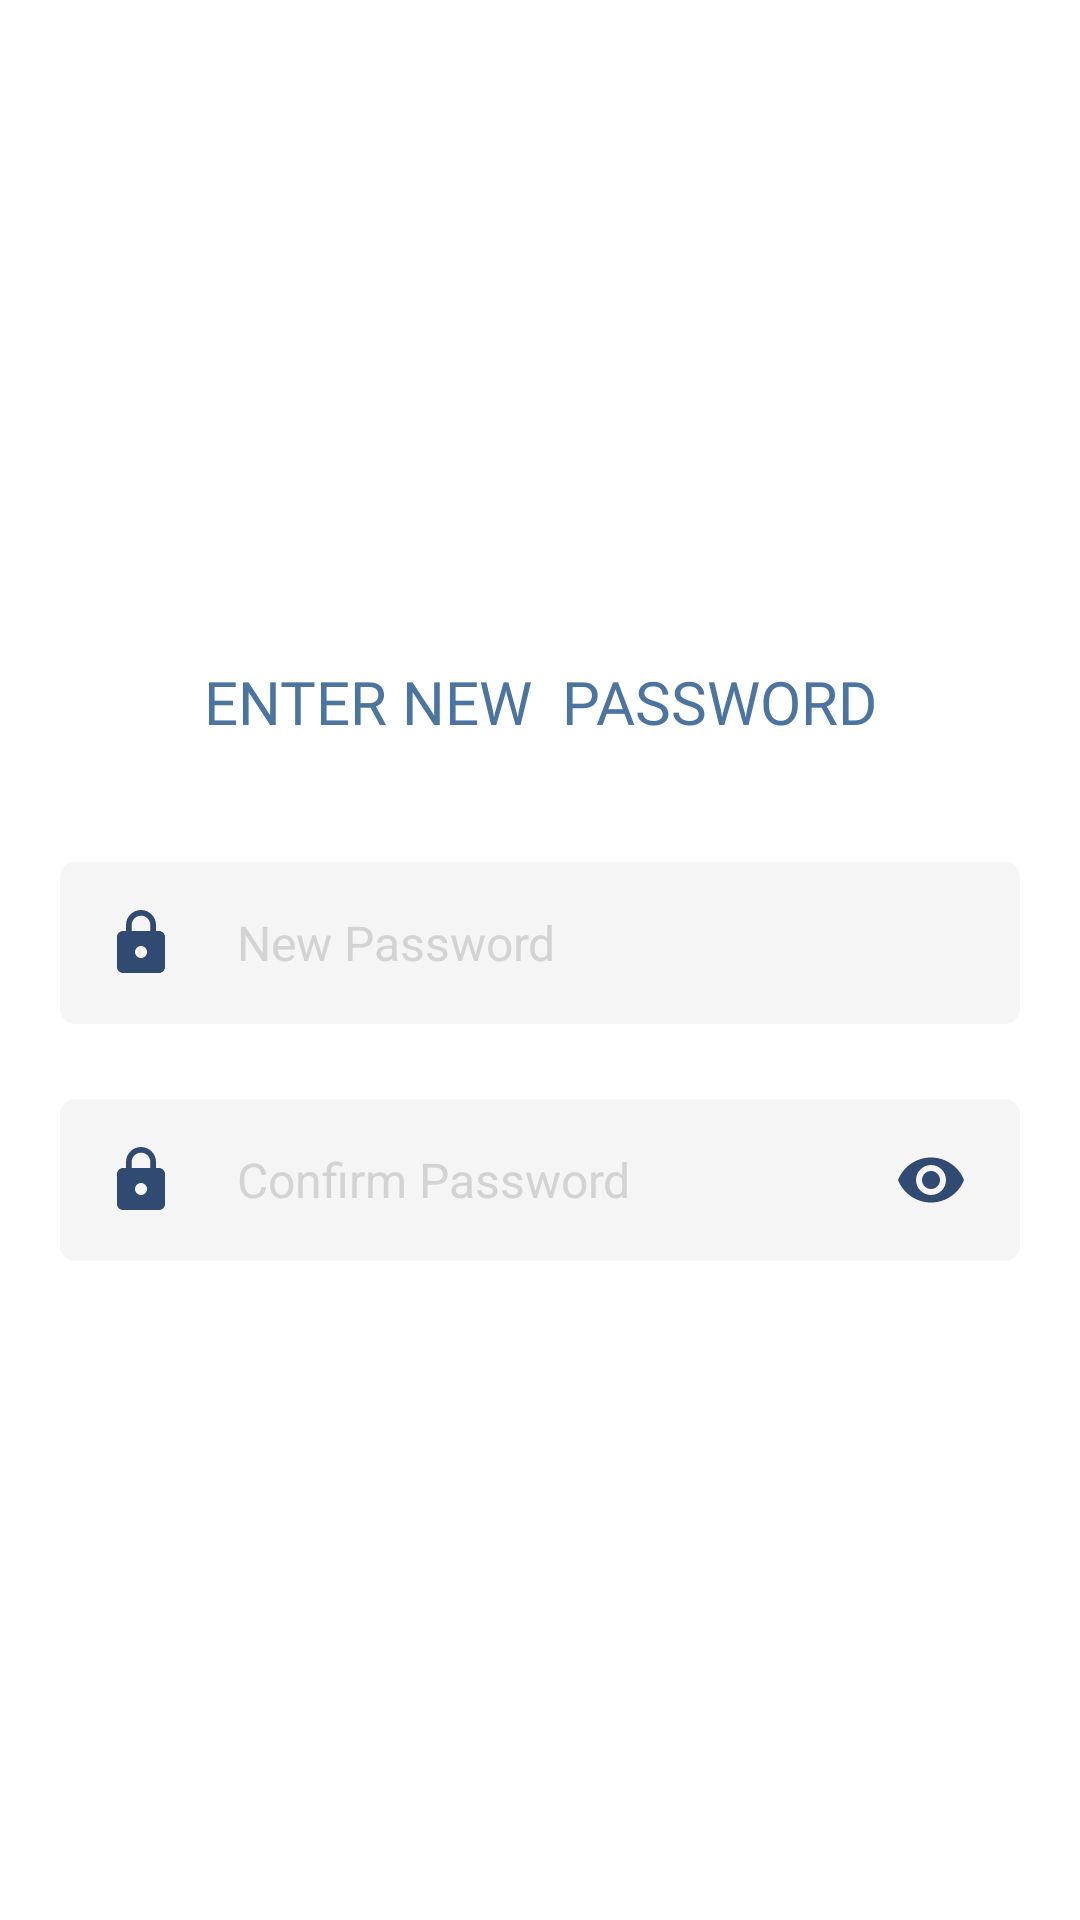

Where to tap for icons on this 1080px x 1920px app screen, as point (x, y):
eye: point (931, 1180)
